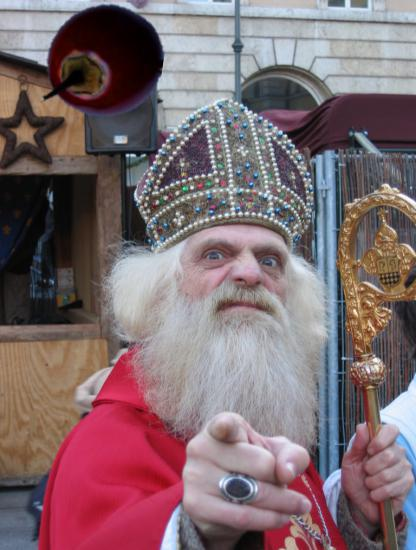Tamarillo: (45, 1, 164, 120)
